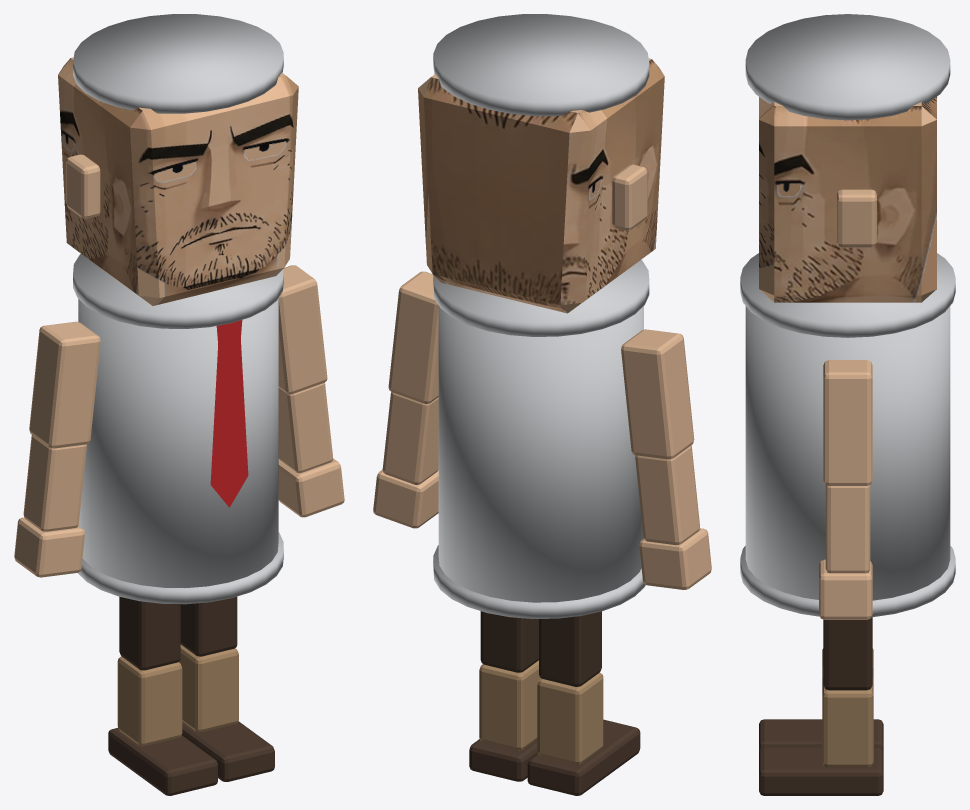
File: stan.glb
3 renders of one model, left to right at view 1: azimuth 30°, elevation 25°; view 2: azimuth 150°, elevation 25°; view 3: azimuth 270°, elevation 25°, orthographic. The views are drawn at different scales.
Parts seen in each view (by area): view 1: Stan_can, Stan_headmesh, Stan_toprim, Stan_upperl, Stan_rim1.19, Stan_tie, Stan_upperr, Stan_boot-1, Stan_forel, Stan_shoe-1, Stan_boot1, Stan_forer (+7 smaller); view 2: Stan_can, Stan_headmesh, Stan_toprim, Stan_upperl, Stan_rim1.19, Stan_upperr, Stan_boot-1, Stan_forel, Stan_boot1, Stan_forer, Stan_trouser-1, Stan_shoe-1 (+6 smaller); view 3: Stan_can, Stan_headmesh, Stan_toprim, Stan_rim1.19, Stan_upperr, Stan_shoe1, Stan_boot1, Stan_forer, Stan_trouser1, Stan_rim0.49, Stan_fistr, Stan_ear1 (+1 smaller).
Boxes of the visible parts, x1,y1,x2,y2 form: Stan_can: (78, 298, 278, 588); Stan_headmesh: (58, 57, 298, 305); Stan_toprim: (73, 14, 283, 113); Stan_upperl: (29, 321, 100, 448); Stan_rim1.19: (73, 254, 283, 328); Stan_tie: (210, 320, 248, 507); Stan_upperr: (278, 265, 327, 394); Stan_boot-1: (117, 656, 182, 746); Stan_forel: (23, 435, 86, 531); Stan_shoe-1: (108, 728, 217, 795); Stan_boot1: (179, 644, 238, 732); Stan_forer: (278, 382, 333, 473); Stan_can: (438, 305, 643, 602); Stan_headmesh: (418, 58, 664, 313); Stan_toprim: (433, 14, 649, 116); Stan_upperl: (621, 329, 694, 459); Stan_rim1.19: (433, 260, 649, 336); Stan_upperr: (388, 271, 438, 403); Stan_boot-1: (537, 672, 603, 764); Stan_forel: (635, 445, 699, 545); Stan_boot1: (479, 660, 540, 750); Stan_forer: (382, 392, 438, 484); Stan_trouser-1: (539, 611, 601, 686); Stan_shoe-1: (527, 719, 640, 795); Stan_can: (745, 306, 950, 600); Stan_headmesh: (759, 97, 936, 302); Stan_toprim: (745, 14, 950, 120); Stan_rim1.19: (740, 253, 955, 337); Stan_upperr: (823, 360, 872, 485); Stan_shoe1: (759, 747, 883, 795); Stan_boot1: (822, 677, 873, 767); Stan_forer: (825, 485, 870, 573); Stan_trouser1: (823, 617, 872, 690); Stan_rim0.49: (740, 546, 955, 617); Stan_fistr: (819, 559, 872, 619); Stan_ear1: (837, 189, 876, 247).
Size of the model in its own units: 0.8151 by 1.76 by 0.484.
10 materials, 3 textured.
